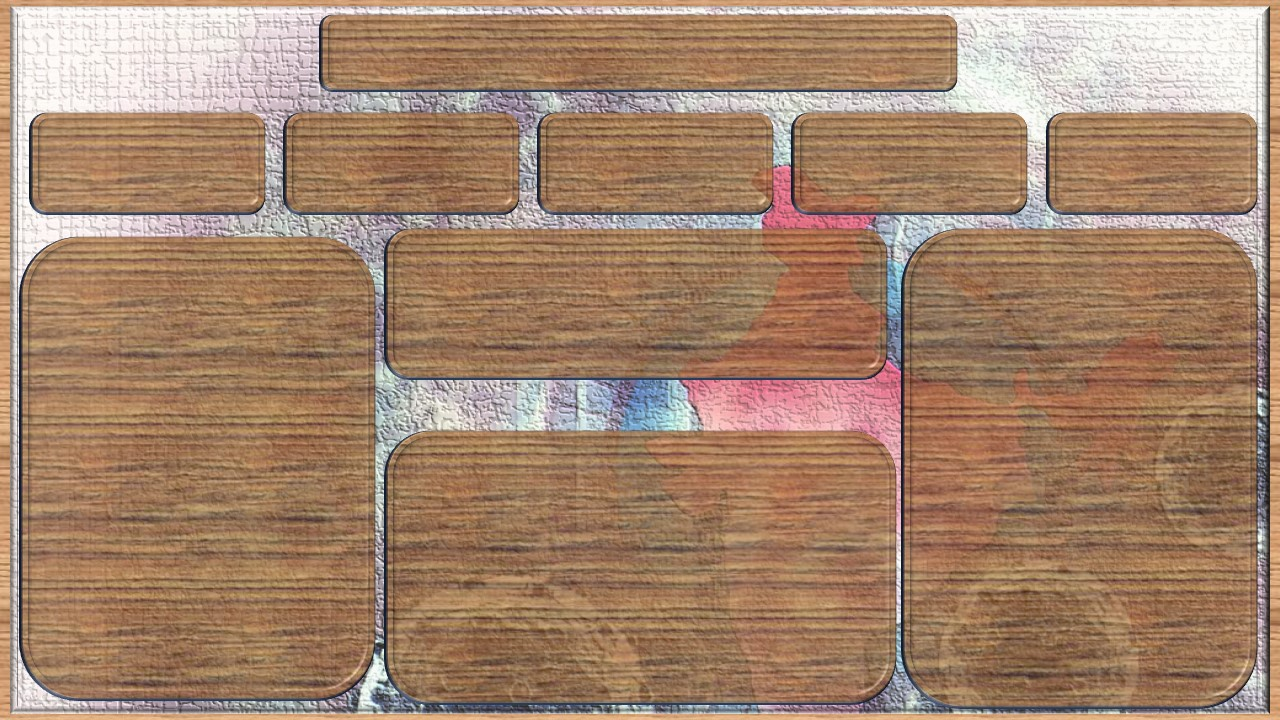

The page's visual inventory and layout, read from the dashboard file:
{"tool":"tableau","page":{"name":"Dashboard 1","canvas":[1620,900],"ordinal":0},"visuals":[{"type":"image","param":"E:/covid analysis Project/Presentation1.jpg","box":[1,0,1608,890.2]},{"type":"worksheet","title":"Recovery Rate","mark":"Automatic","box":[1034,143,261,114]},{"type":"worksheet","title":"Confirmed Cases","mark":"Automatic","box":[52,145,257,117]},{"type":"text","box":[1338,149,188,42]},{"type":"worksheet","title":"Deaths ","mark":"Automatic","box":[387,153,239,114]},{"type":"text","box":[988,157,280,31]},{"type":"worksheet","title":"Death Rate","mark":"Automatic","box":[1331,188,199,61]},{"type":"worksheet","title":"Cured Cases in India","mark":"Automatic","box":[1138,287,397,559]},{"type":"worksheet","title":"Active Cases in India","mark":"Multipolygon","box":[44,298,404,533]},{"type":"filter","title":"Cured Cases in India","param":"[federated.0f7trgw0iik8n71eogmae1boljcq].[none:State Name:nk]","box":[1369,331,166,142]},{"type":"filter","title":"Active Cases in India","param":"[federated.0f7trgw0iik8n71eogmae1boljcq].[none:Calculation_1567534206961856513:n","box":[298,362,145,139]},{"type":"worksheet","title":"Death Cases in India","mark":"Automatic","box":[495,536,600,315]}]}

Visuals, with their boxes in screenshot pixels (x1, y1, x2, y2), scaled from the page's 1620x900 canvas onto the 1280x720 screenshot:
image: (x1=1, y1=0, x2=1271, y2=712)
"Recovery Rate" worksheet: (x1=817, y1=114, x2=1023, y2=206)
"Confirmed Cases" worksheet: (x1=41, y1=116, x2=244, y2=210)
text: (x1=1057, y1=119, x2=1206, y2=153)
"Deaths " worksheet: (x1=306, y1=122, x2=495, y2=214)
text: (x1=781, y1=126, x2=1002, y2=150)
"Death Rate" worksheet: (x1=1052, y1=150, x2=1209, y2=199)
"Cured Cases in India" worksheet: (x1=899, y1=230, x2=1213, y2=677)
"Active Cases in India" worksheet (Multipolygon marks): (x1=35, y1=238, x2=354, y2=665)
"Cured Cases in India" filter: (x1=1082, y1=265, x2=1213, y2=378)
"Active Cases in India" filter: (x1=235, y1=290, x2=350, y2=401)
"Death Cases in India" worksheet: (x1=391, y1=429, x2=865, y2=681)
